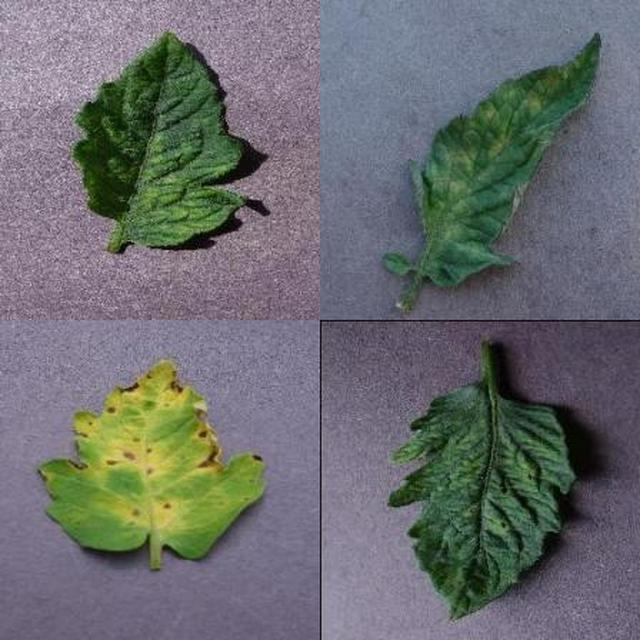Mosaic Virus Leaf: (216, 198, 640, 640)
